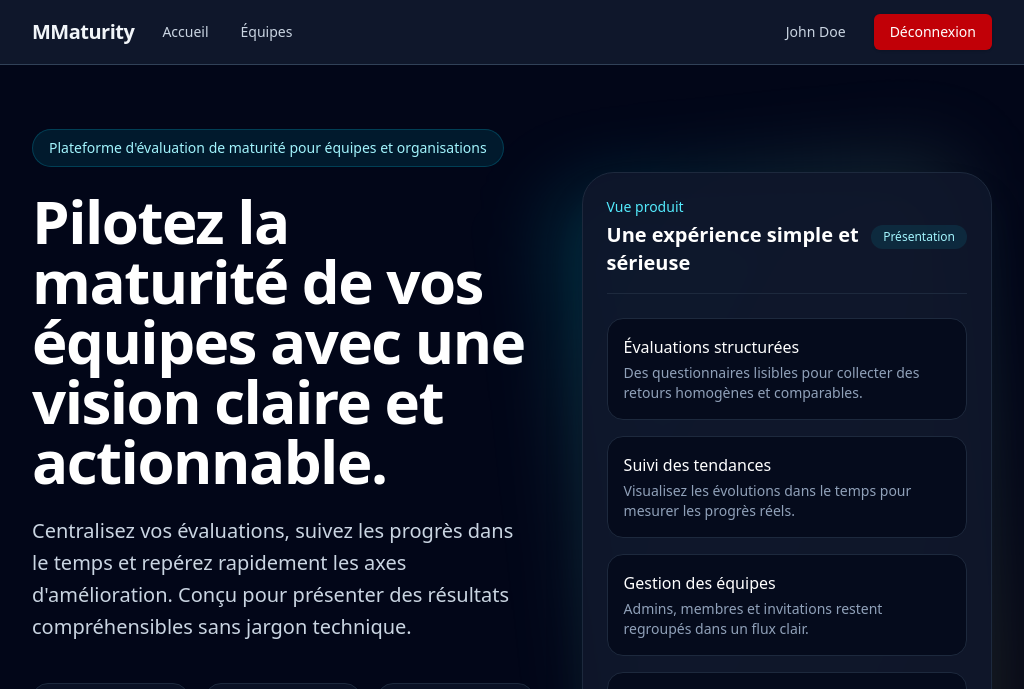
Test: App Component › handles logout
The width and height of the screenshot is (1024, 689).
What coordinates should you click on to do the following:
click the button "Déconnexion"
I would click on:
 (933, 32)
Its box is [874,14,992,50].
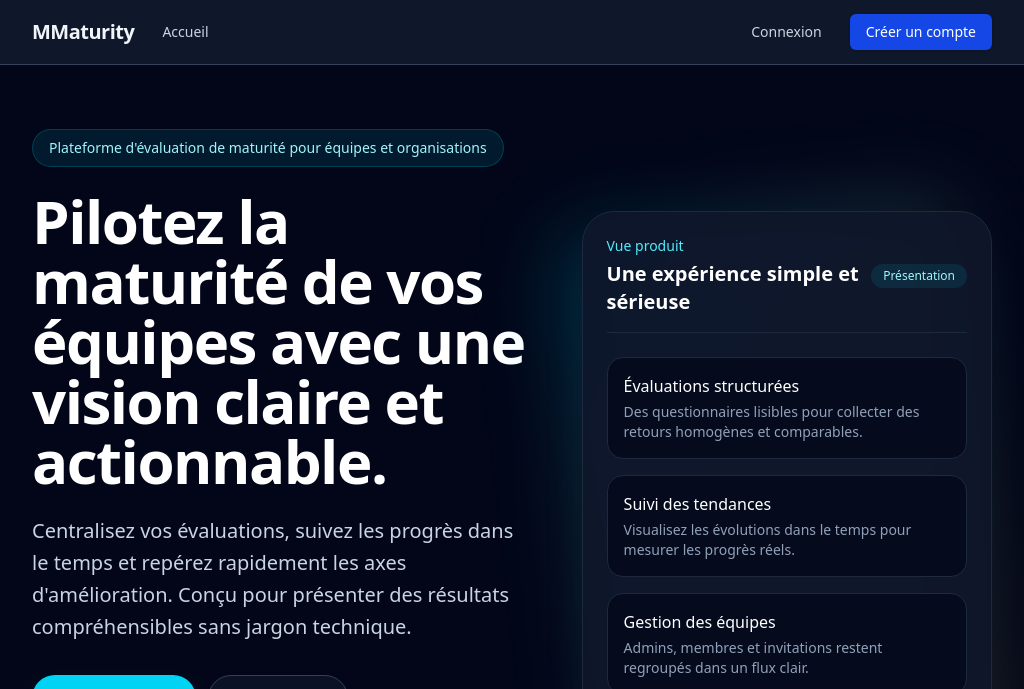
Now the link "John Doe" is gone
Now the link "Connexion" is shown, box [751,22,822,41]
